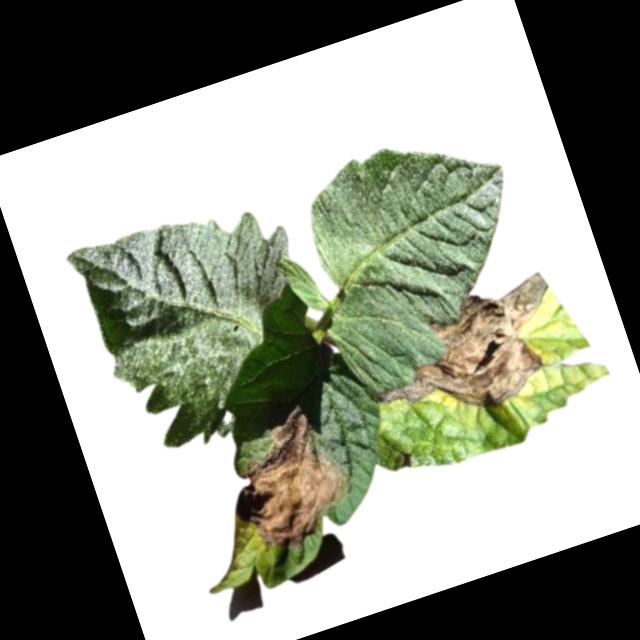Late_blight: (352, 268, 580, 445), (211, 403, 365, 568)
healthy: (64, 182, 347, 468), (281, 112, 559, 402)
